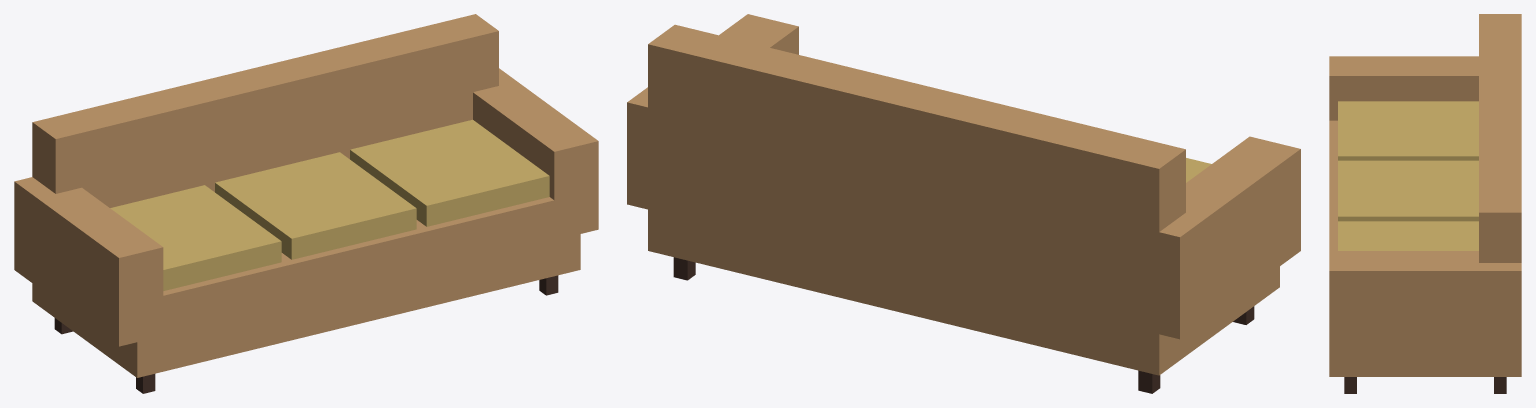
Rendered from sofa_1975.glb.
The picture shows the model from 3 angles, left to right: view 1: azimuth 30°, elevation 25°; view 2: azimuth 150°, elevation 25°; view 3: azimuth 270°, elevation 25°; orthographic projection. The views are drawn at different scales.
Parts seen in each view (by area): view 1: Malha_0; view 2: Malha_0; view 3: Malha_0.
Part boxes in pixels (x1=…): Malha_0: x1=14, y1=14, x2=598, y2=393; Malha_0: x1=627, y1=14, x2=1300, y2=393; Malha_0: x1=1329, y1=14, x2=1521, y2=393.
Bounding box in the file's own units: 2.38 × 0.97 × 0.9.
